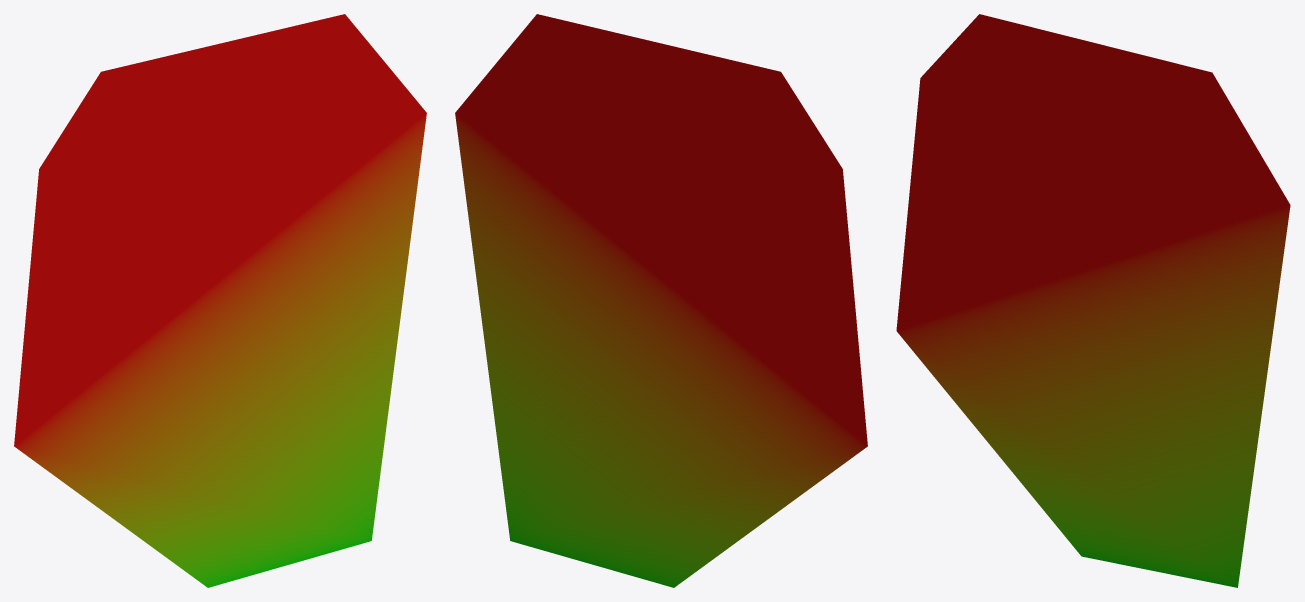
File: Softstem Bulrush_LOD3_Var1_uehjcafia.fbx
3 renders of one model, left to right at view 1: azimuth 30°, elevation 25°; view 2: azimuth 150°, elevation 25°; view 3: azimuth 330°, elevation 25°, orthographic. The views are drawn at different scales.
Parts seen in each view (by area): view 1: _3dcf_Var1_LOD3; view 2: _3dcf_Var1_LOD3; view 3: _3dcf_Var1_LOD3.
Boxes of the visible parts, <box> form: _3dcf_Var1_LOD3: <box>14,14,426,587</box>; _3dcf_Var1_LOD3: <box>455,14,867,587</box>; _3dcf_Var1_LOD3: <box>896,14,1290,587</box>.
Size of the model in its own units: 63.42 by 79.59 by 1.43e-06.
